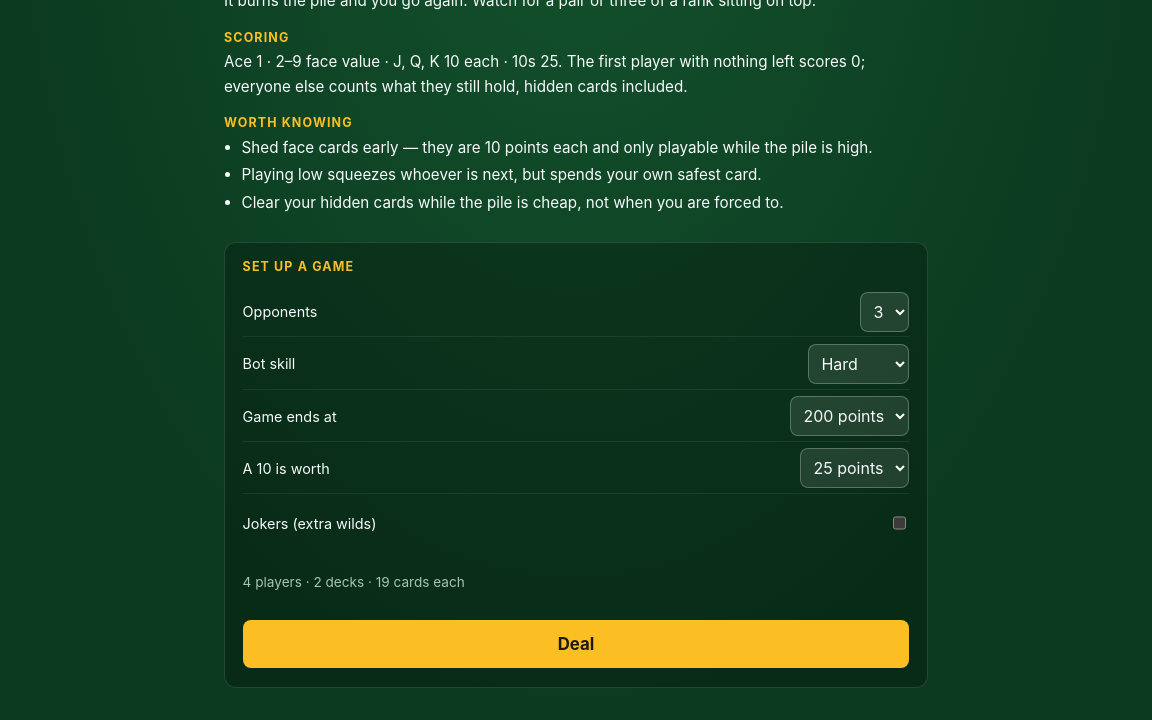
pacing › disables Step unless the table is paused with a bot to move
The image size is (1152, 720).
(page scrolled)
What coordinates should you click on to do the following:
click the button "Deal"
I would click on:
 (576, 644)
Its box is [243,620,909,668].
(page scrolled)
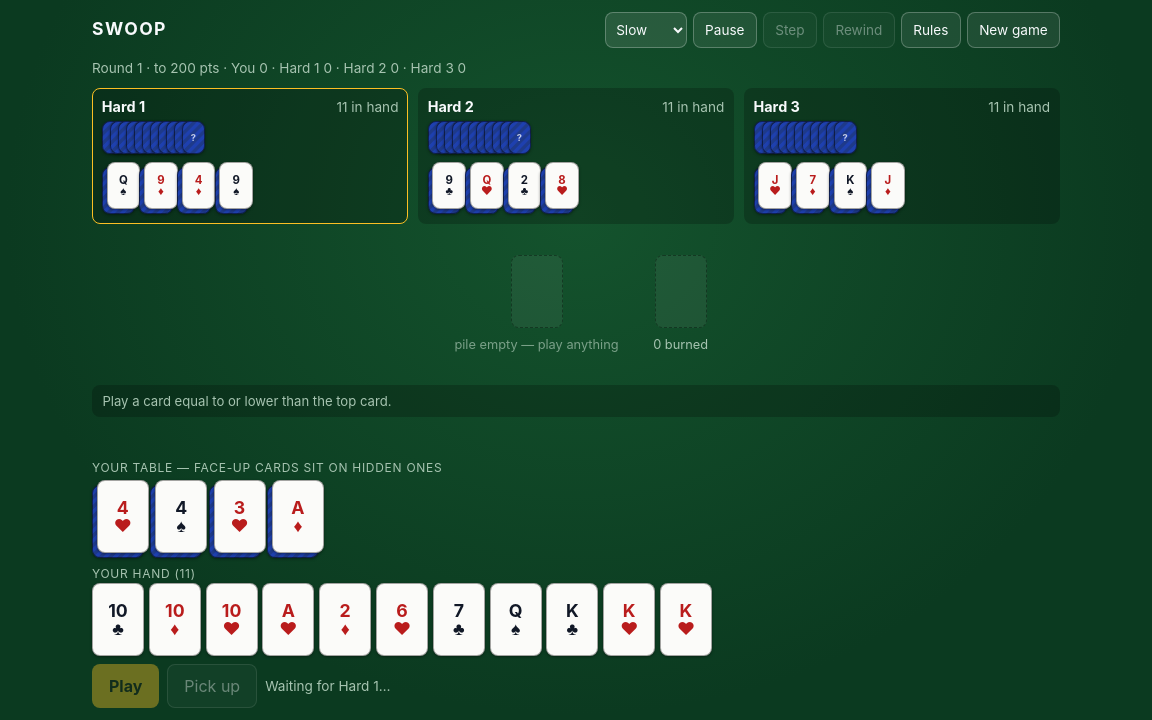
expect the button "Step" is disabled: met, box [763,12,817,48]
What coordinates should you click on to do the following:
click the button "Pause"
I would click on:
 (725, 30)
Its box is [693,12,757,48].
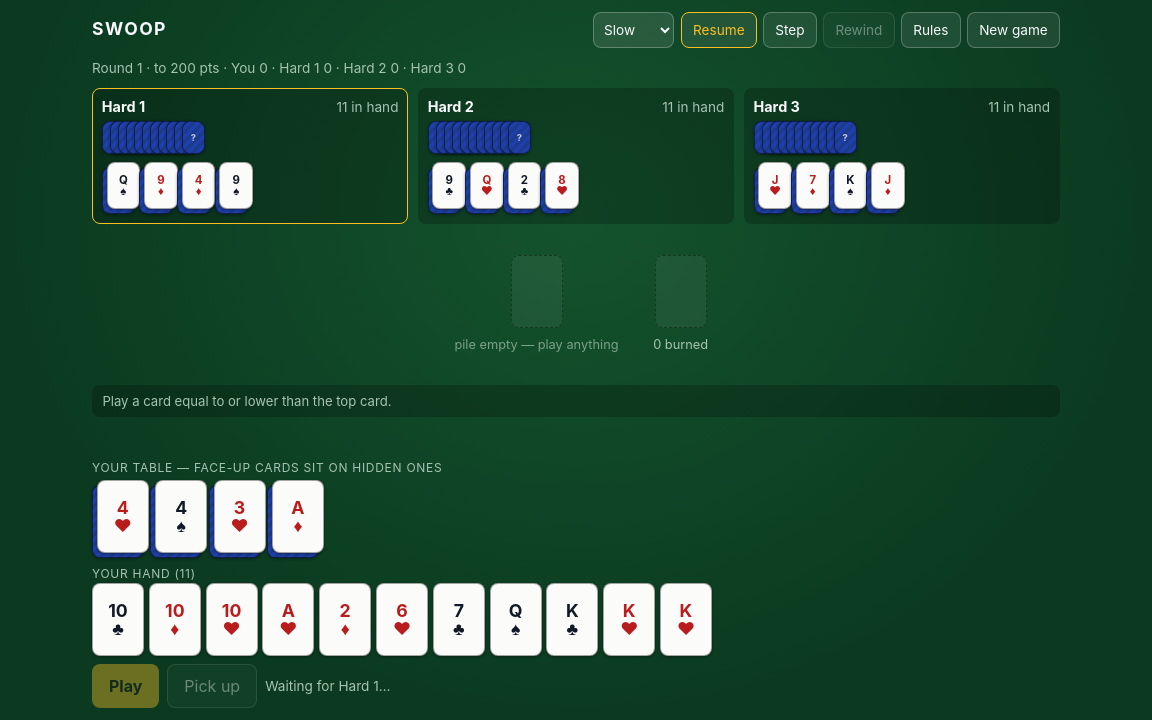
expect the button "Step" is enabled: met, box [763,12,817,48]
